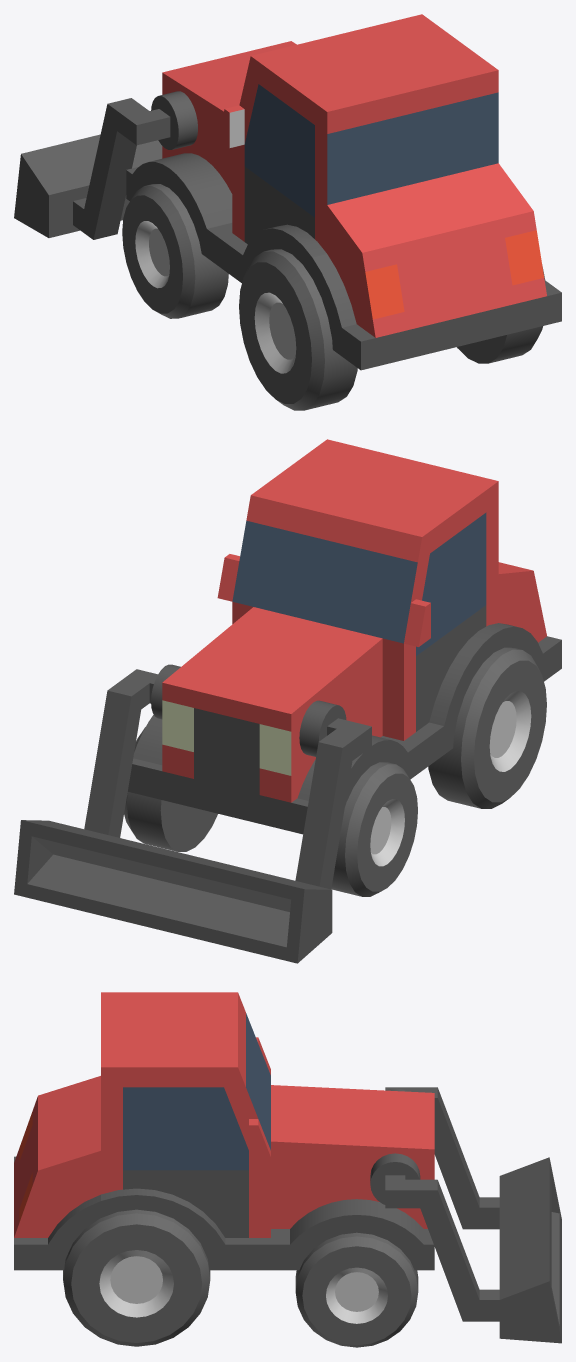
The model's file is carTractorShovel.fbx.
3 views of the same model, one above another, from view 1: azimuth 30°, elevation 25°; view 2: azimuth 150°, elevation 25°; view 3: azimuth 270°, elevation 25° (orthographic). The views are drawn at different scales.
Parts seen in each view (by area): view 1: body 11, shovel, wheelBackLeft 11, wheelFrontLeft 11, wheelBackRight 11; view 2: body 11, shovel, wheelBackLeft 11, wheelFrontLeft 11, wheelFrontRight 11; view 3: body 11, shovel, wheelBackRight 11, wheelFrontRight 11.
Part boxes in pixels (bbox=[...]): body 11: bbox=[126, 14, 561, 370]; shovel: bbox=[14, 91, 197, 239]; wheelBackLeft 11: bbox=[239, 249, 357, 410]; wheelFrontLeft 11: bbox=[122, 184, 228, 318]; wheelBackRight 11: bbox=[457, 266, 545, 363]; body 11: bbox=[128, 439, 561, 834]; shovel: bbox=[14, 664, 371, 963]; wheelBackLeft 11: bbox=[428, 647, 546, 808]; wheelFrontLeft 11: bbox=[331, 762, 417, 896]; wheelFrontRight 11: bbox=[124, 727, 217, 851]; body 11: bbox=[14, 992, 434, 1270]; shovel: bbox=[370, 1087, 561, 1343]; wheelBackRight 11: bbox=[63, 1209, 210, 1346]; wheelFrontRight 11: bbox=[295, 1232, 418, 1347].
Size of the model in its own units: 6.7 by 6.83 by 12.5.
